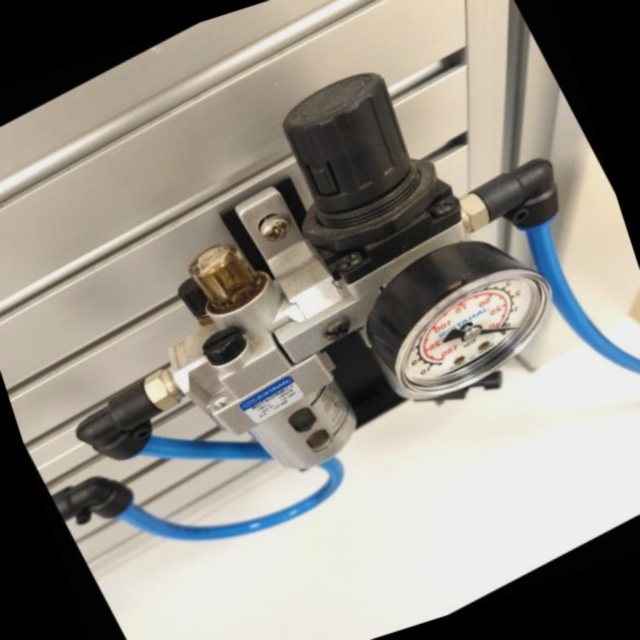FRL unit: (29, 0, 640, 576)
